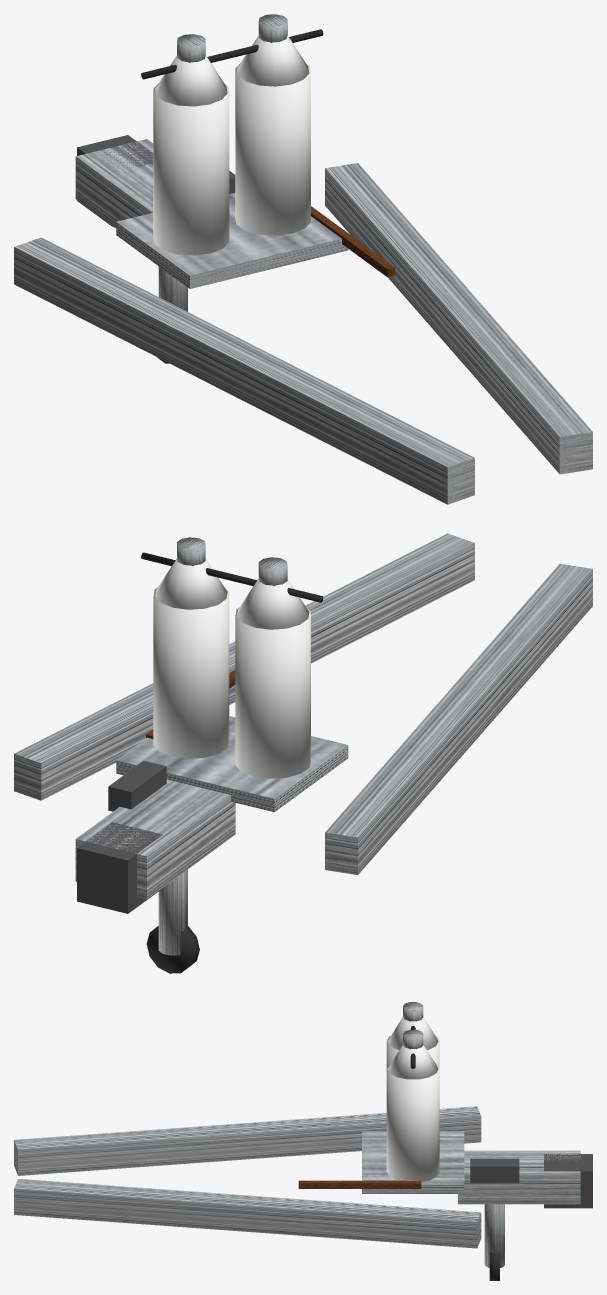
The model's file is WK_STR_HitchTongue.glb.
The picture shows the model from 3 angles, top to bottom: view 1: azimuth 30°, elevation 25°; view 2: azimuth 150°, elevation 25°; view 3: azimuth 270°, elevation 25°; orthographic projection. The views are drawn at different scales.
Parts seen in each view (by area): view 1: WK_STR_HitchTongue_P01, WK_STR_HitchTongue_P02, WK_STR_HitchTongue_P09, WK_STR_HitchTongue_P12, WK_STR_HitchTongue_P08, WK_STR_HitchTongue_P03, WK_STR_HitchTongue_P10, WK_STR_HitchTongue_P13, WK_STR_HitchTongue_P04, WK_STR_HitchTongue_P16, WK_STR_HitchTongue_P15, WK_STR_HitchTongue_P05 (+2 smaller); view 2: WK_STR_HitchTongue_P01, WK_STR_HitchTongue_P02, WK_STR_HitchTongue_P12, WK_STR_HitchTongue_P09, WK_STR_HitchTongue_P03, WK_STR_HitchTongue_P08, WK_STR_HitchTongue_P04, WK_STR_HitchTongue_P10, WK_STR_HitchTongue_P13, WK_STR_HitchTongue_P05, WK_STR_HitchTongue_P07, WK_STR_HitchTongue_P06 (+3 smaller); view 3: WK_STR_HitchTongue_P02, WK_STR_HitchTongue_P01, WK_STR_HitchTongue_P12, WK_STR_HitchTongue_P03, WK_STR_HitchTongue_P08, WK_STR_HitchTongue_P04, WK_STR_HitchTongue_P07, WK_STR_HitchTongue_P13, WK_STR_HitchTongue_P05, WK_STR_HitchTongue_P16, WK_STR_HitchTongue_P10, WK_STR_HitchTongue_P09 (+2 smaller).
Part boxes in pixels (left/top/right/bottom): WK_STR_HitchTongue_P01: left=14, top=237, right=474, bottom=504; WK_STR_HitchTongue_P02: left=325, top=163, right=592, bottom=474; WK_STR_HitchTongue_P09: left=153, top=83, right=229, bottom=255; WK_STR_HitchTongue_P12: left=235, top=63, right=310, bottom=235; WK_STR_HitchTongue_P08: left=116, top=193, right=348, bottom=288; WK_STR_HitchTongue_P03: left=75, top=139, right=153, bottom=228; WK_STR_HitchTongue_P10: left=155, top=55, right=227, bottom=106; WK_STR_HitchTongue_P13: left=237, top=35, right=309, bottom=86; WK_STR_HitchTongue_P04: left=77, top=135, right=153, bottom=226; WK_STR_HitchTongue_P16: left=311, top=206, right=395, bottom=277; WK_STR_HitchTongue_P15: left=141, top=29, right=323, bottom=79; WK_STR_HitchTongue_P05: left=158, top=266, right=187, bottom=311; WK_STR_HitchTongue_P01: left=325, top=563, right=592, bottom=874; WK_STR_HitchTongue_P02: left=14, top=533, right=474, bottom=800; WK_STR_HitchTongue_P12: left=153, top=586, right=229, bottom=758; WK_STR_HitchTongue_P09: left=235, top=607, right=310, bottom=778; WK_STR_HitchTongue_P03: left=75, top=779, right=235, bottom=899; WK_STR_HitchTongue_P08: left=116, top=716, right=348, bottom=812; WK_STR_HitchTongue_P04: left=77, top=822, right=162, bottom=913; WK_STR_HitchTongue_P10: left=237, top=578, right=309, bottom=629; WK_STR_HitchTongue_P13: left=155, top=558, right=227, bottom=609; WK_STR_HitchTongue_P05: left=158, top=869, right=187, bottom=955; WK_STR_HitchTongue_P07: left=108, top=760, right=166, bottom=811; WK_STR_HitchTongue_P06: left=146, top=926, right=199, bottom=973; WK_STR_HitchTongue_P02: left=14, top=1179, right=481, bottom=1248; WK_STR_HitchTongue_P01: left=14, top=1106, right=481, bottom=1175; WK_STR_HitchTongue_P12: left=386, top=1063, right=439, bottom=1182; WK_STR_HitchTongue_P03: left=458, top=1150, right=580, bottom=1204; WK_STR_HitchTongue_P08: left=362, top=1131, right=464, bottom=1193; WK_STR_HitchTongue_P04: left=544, top=1154, right=592, bottom=1208; WK_STR_HitchTongue_P07: left=470, top=1158, right=519, bottom=1183; WK_STR_HitchTongue_P13: left=388, top=1045, right=438, bottom=1079; WK_STR_HitchTongue_P05: left=484, top=1204, right=504, bottom=1267; WK_STR_HitchTongue_P16: left=298, top=1180, right=421, bottom=1188; WK_STR_HitchTongue_P10: left=388, top=1017, right=438, bottom=1049; WK_STR_HitchTongue_P09: left=386, top=1035, right=439, bottom=1068.
Bounding box in the file's own units: 1.35 × 1.4 × 2.83.
6 materials, 2 textured.
